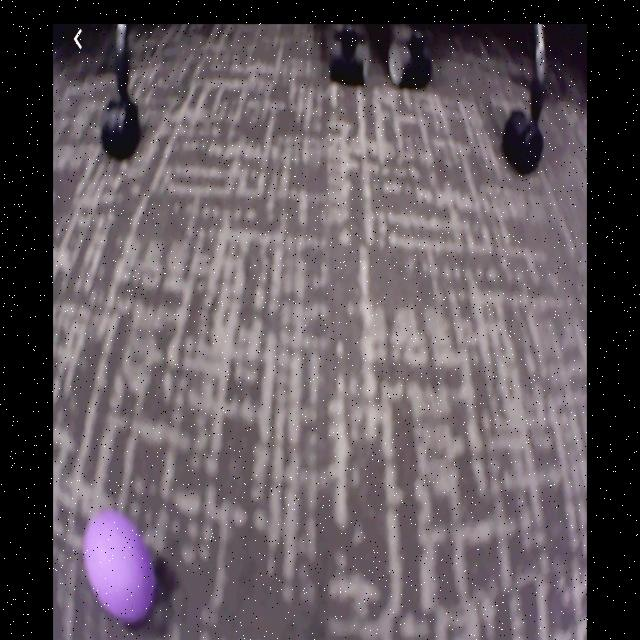ball: (87, 509, 156, 629)
